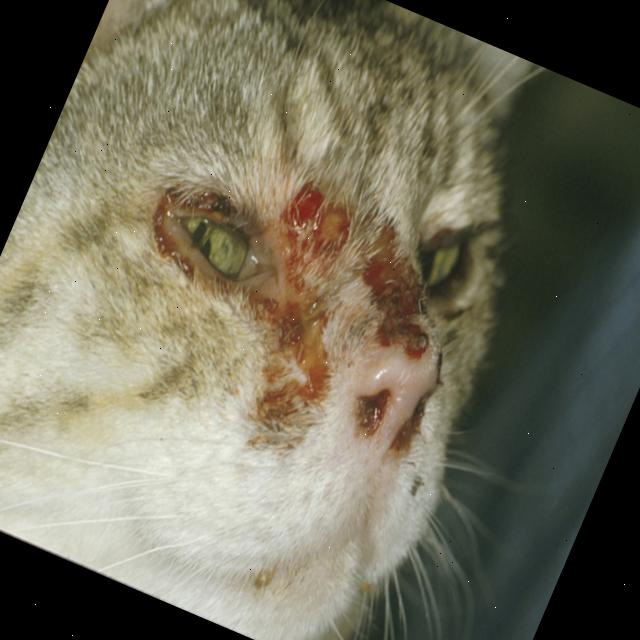cat-ringworm: (339, 228, 451, 356), (236, 282, 342, 384), (272, 174, 358, 264), (348, 380, 396, 434), (392, 404, 431, 455), (256, 384, 300, 428)
